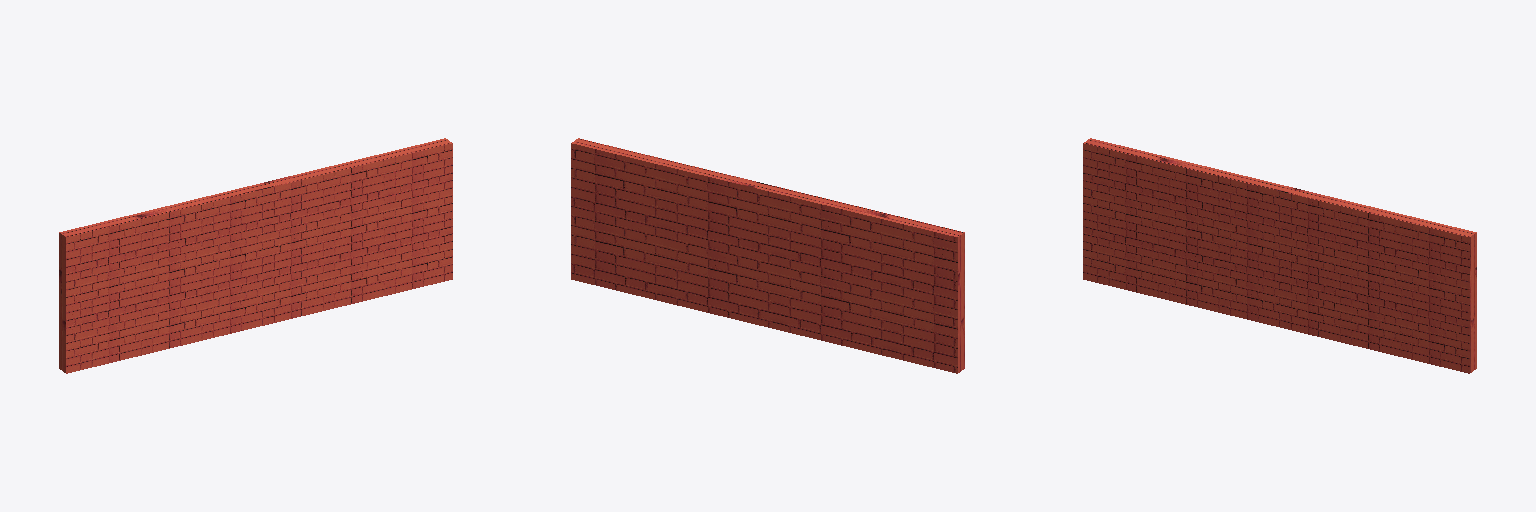
3 renders of one model, left to right at view 1: azimuth 30°, elevation 25°; view 2: azimuth 150°, elevation 25°; view 3: azimuth 330°, elevation 25°, orthographic.
Visible parts, largest first — view 1: Cube.008_Cube.009; view 2: Cube.008_Cube.009; view 3: Cube.008_Cube.009.
Boxes of the visible parts, box(x1,y1,x2,y2) form: Cube.008_Cube.009: box(59, 138, 452, 373); Cube.008_Cube.009: box(571, 138, 964, 373); Cube.008_Cube.009: box(1083, 138, 1476, 373).
Bounding box in the file's own units: 25.56 × 8.62 × 0.8.
1 materials, 1 textured.